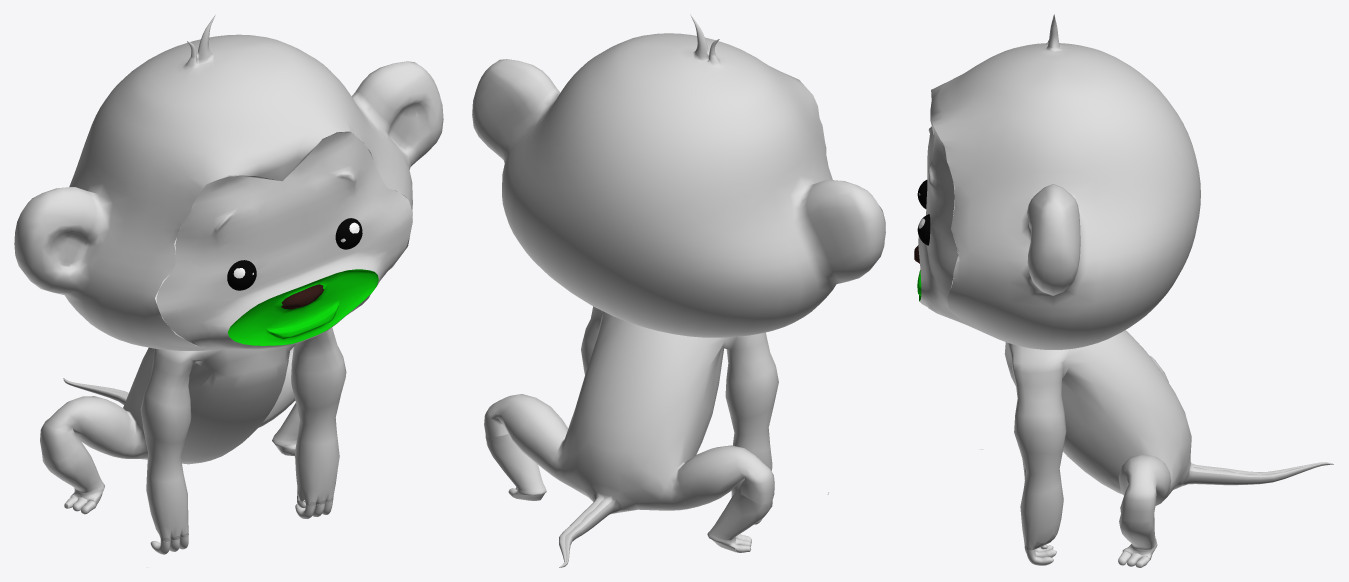
File: Monkey.fbx
3 views of the same model, side by side, from view 1: azimuth 30°, elevation 25°; view 2: azimuth 150°, elevation 25°; view 3: azimuth 270°, elevation 25° (orthographic). The views are drawn at different scales.
Parts seen in each view (by area): view 1: polySurface50, polySurface12, polySurface51, polySurface54, polySurface49, polySurface52, polySurface53; view 2: polySurface50, polySurface12; view 3: polySurface50, polySurface12, polySurface51, polySurface49.
Boxes of the visible parts, <box> form: polySurface50: <box>14,14,443,350</box>; polySurface12: <box>40,327,346,542</box>; polySurface51: <box>156,131,412,349</box>; polySurface54: <box>227,269,378,345</box>; polySurface49: <box>64,496,332,554</box>; polySurface52: <box>227,260,256,290</box>; polySurface53: <box>335,218,362,249</box>; polySurface50: <box>472,14,885,337</box>; polySurface12: <box>484,306,778,567</box>; polySurface50: <box>930,14,1200,349</box>; polySurface12: <box>1004,330,1333,560</box>; polySurface51: <box>918,124,968,325</box>; polySurface49: <box>1024,476,1149,567</box>.
Bounding box in the file's own units: 5.7 × 6.73 × 5.09.
